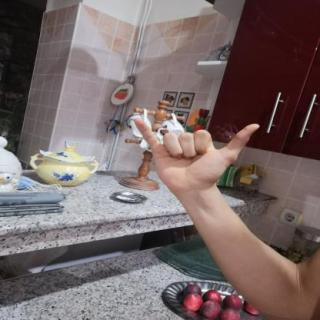YA: (119, 110, 271, 199)
